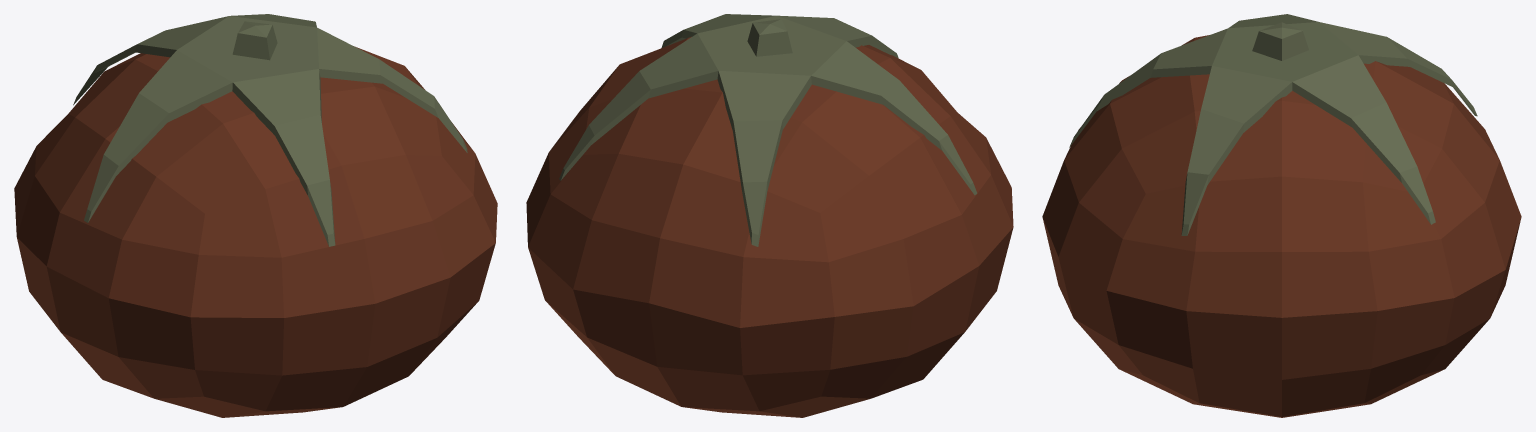
The model's file is Tomato_Crop.gltf.
3 views of the same model, side by side, from view 1: azimuth 30°, elevation 25°; view 2: azimuth 150°, elevation 25°; view 3: azimuth 270°, elevation 25° (orthographic).
Parts seen in each view (by area): view 1: Tomato_Crop; view 2: Tomato_Crop; view 3: Tomato_Crop.
Boxes of the visible parts, <box> form: Tomato_Crop: <box>14,14,497,417</box>; Tomato_Crop: <box>526,14,1013,417</box>; Tomato_Crop: <box>1042,14,1521,417</box>.
Bounding box in the file's own units: 0.178 × 0.1481 × 0.178.
